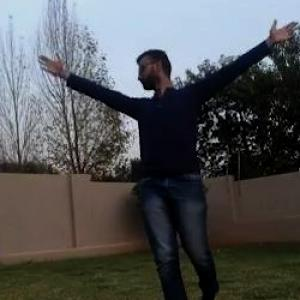takeoff: (25, 0, 265, 299)
